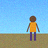person: (27, 16, 39, 41)
